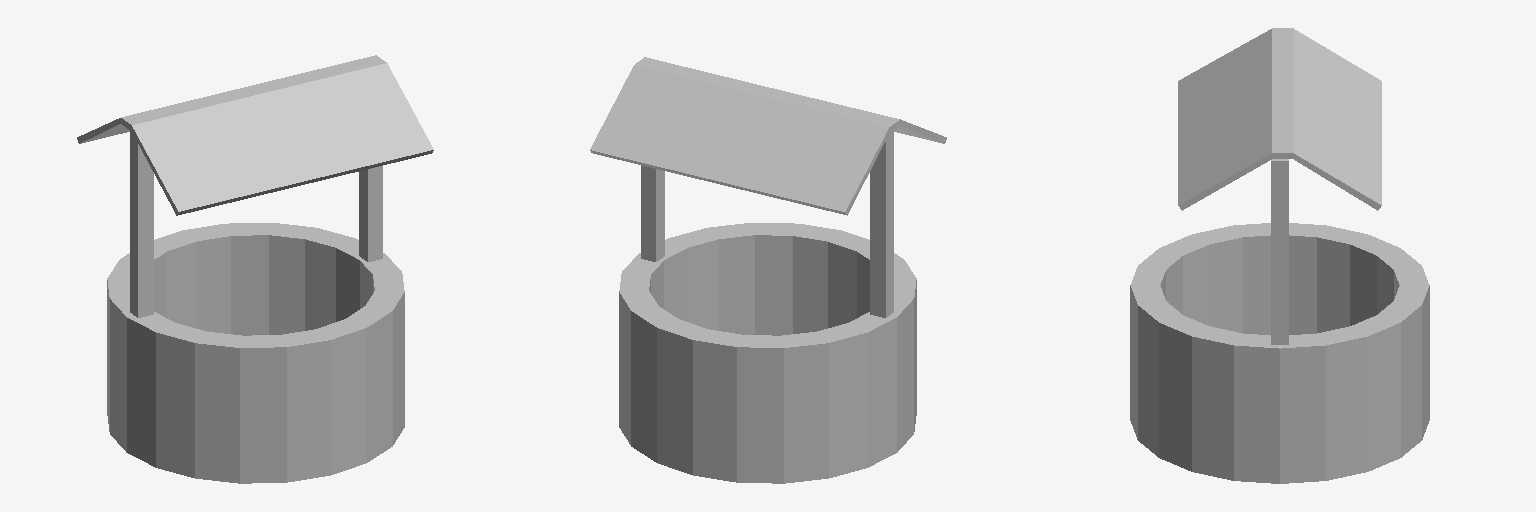
File: pozoDePrueba.obj
The picture shows the model from 3 angles: view 1: azimuth 30°, elevation 25°; view 2: azimuth 150°, elevation 25°; view 3: azimuth 270°, elevation 25°; orthographic projection.
Visible parts, largest first — view 1: pPipe5; view 2: pPipe5; view 3: pPipe5.
Part boxes in pixels (x1,y1,x2,y2): pPipe5: (77, 55, 433, 483); pPipe5: (590, 57, 946, 483); pPipe5: (1130, 28, 1429, 483).
Bounding box in the file's own units: 4.02 × 4.89 × 4.02.